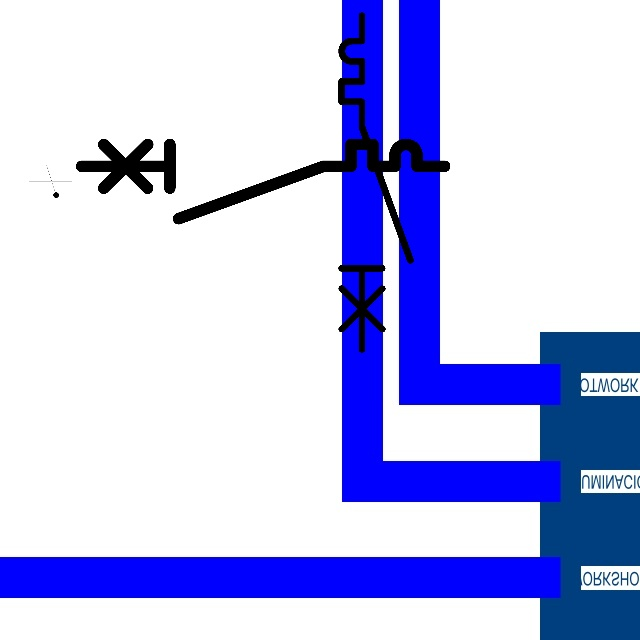interruptor_termomagnetico: (72, 135, 454, 228), (333, 7, 419, 358)
